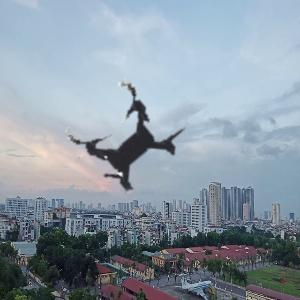drone: (33, 49, 222, 238)
